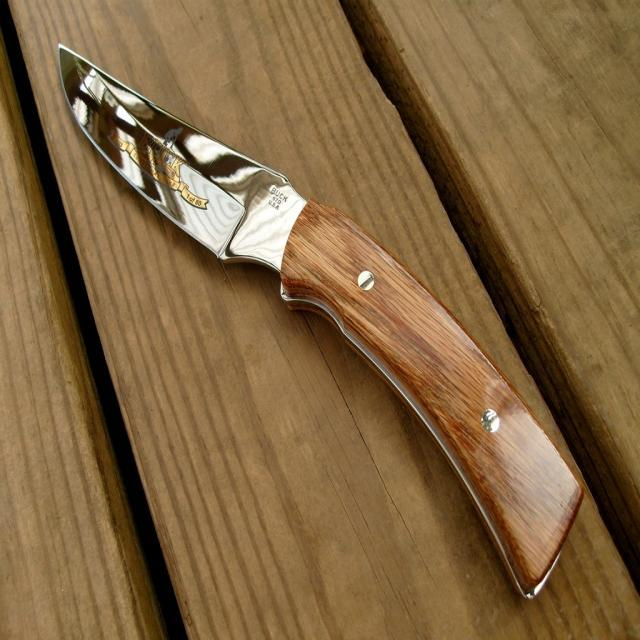Knife: (60, 45, 581, 597)
